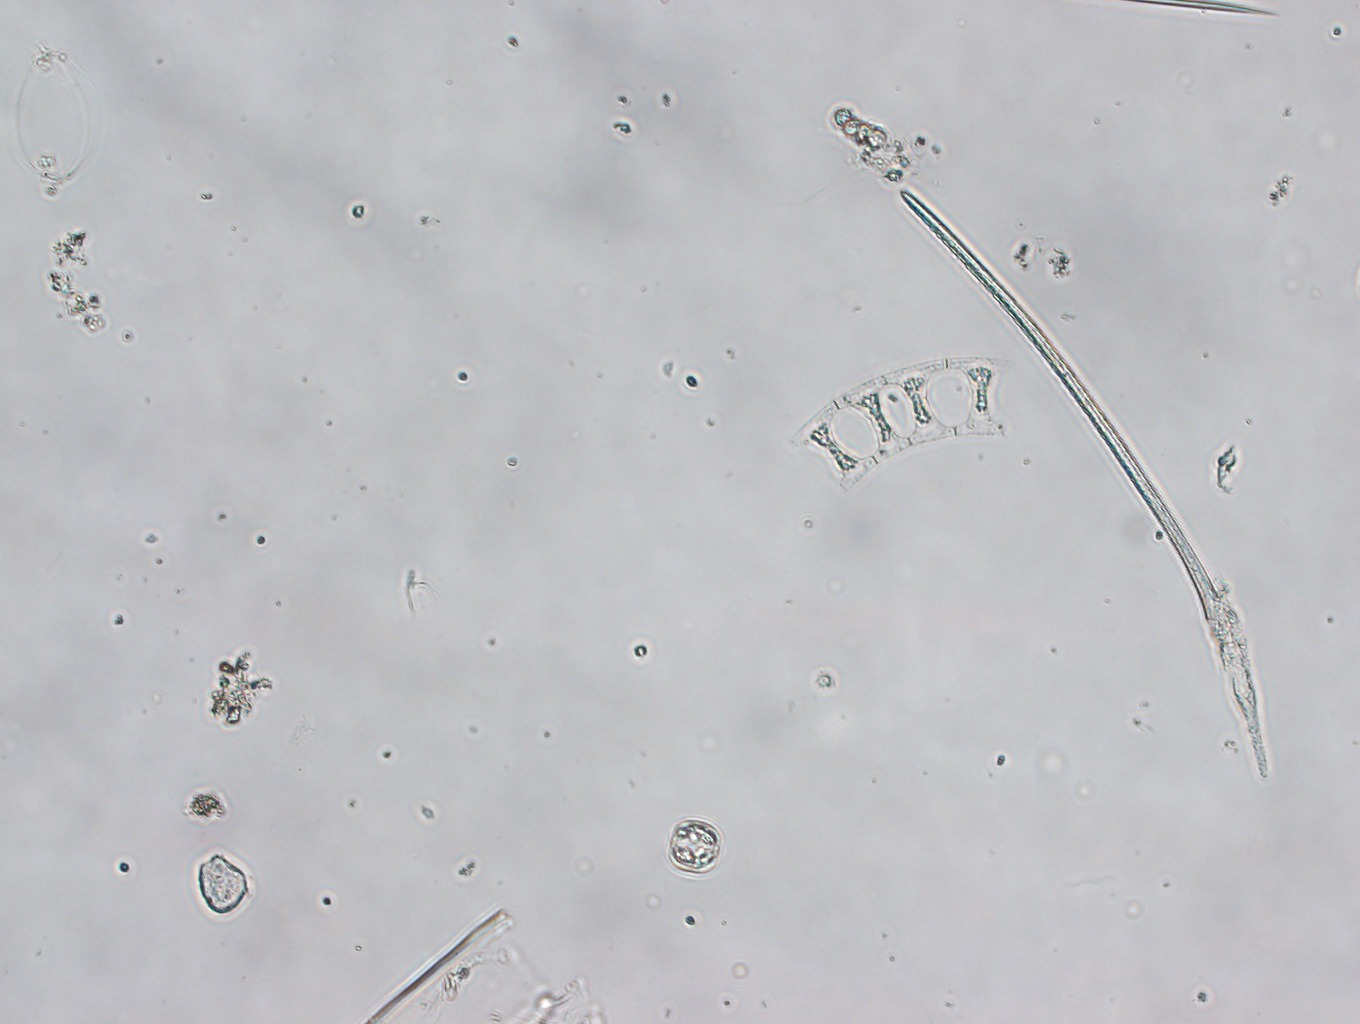ceratium fusus: (896, 182, 1272, 783)
eucampia: (779, 344, 1010, 494)
